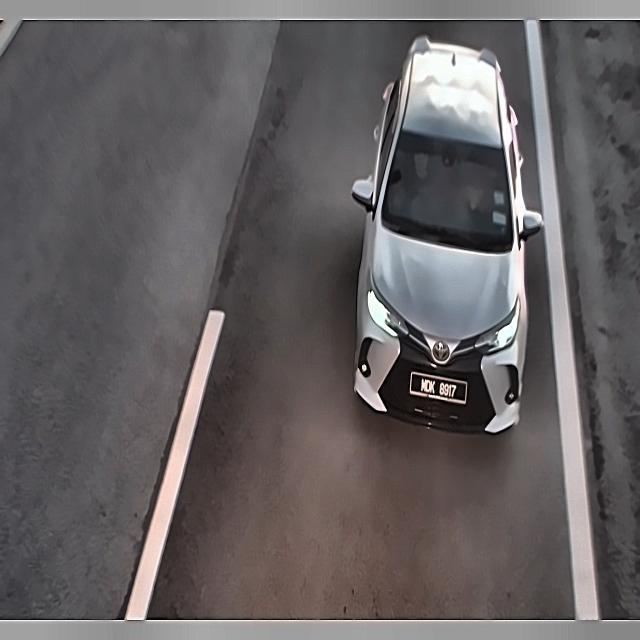car: (407, 365, 475, 408)
